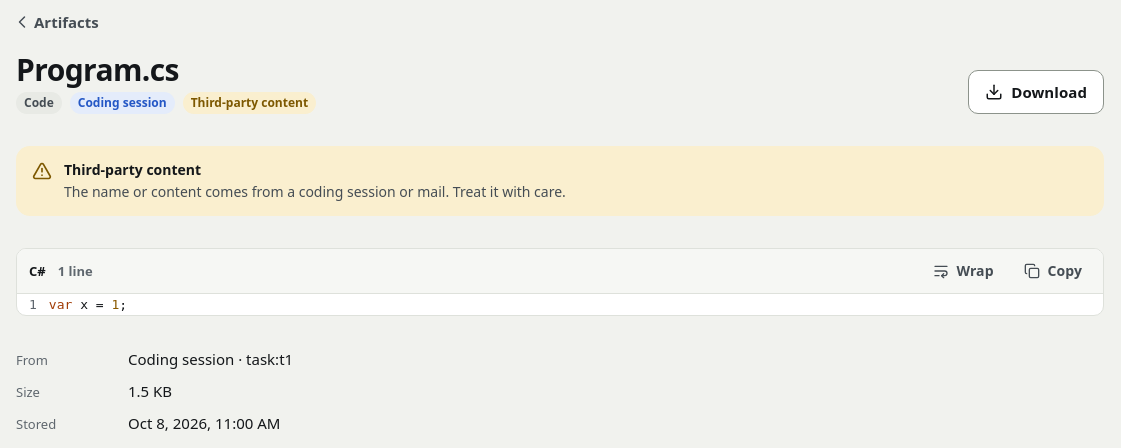
Test: ArtifactView › copies the full text
The image size is (1121, 448).
Click the button with test id "copy" at coordinates (1053, 271), box [1011,253,1095,289]
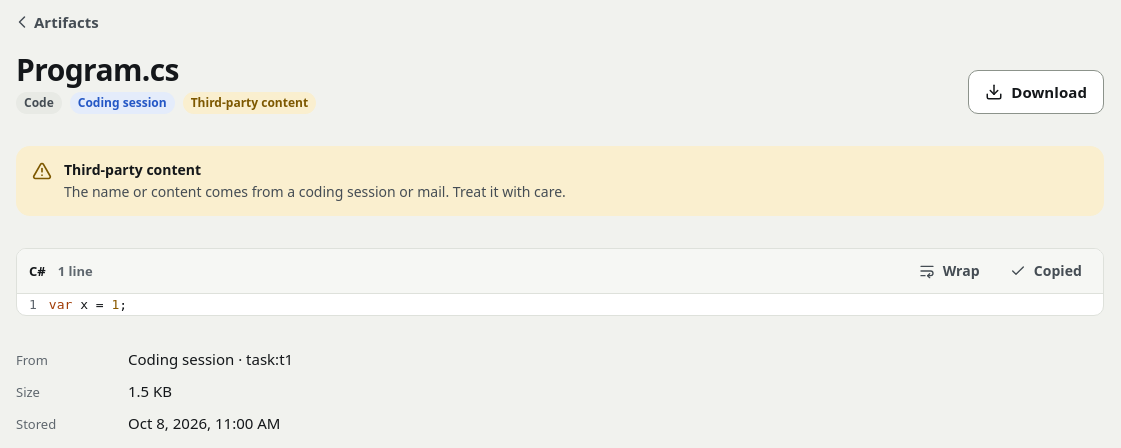
expect the button with test id "copy" reads "Copied": met, box [997,253,1095,289]
